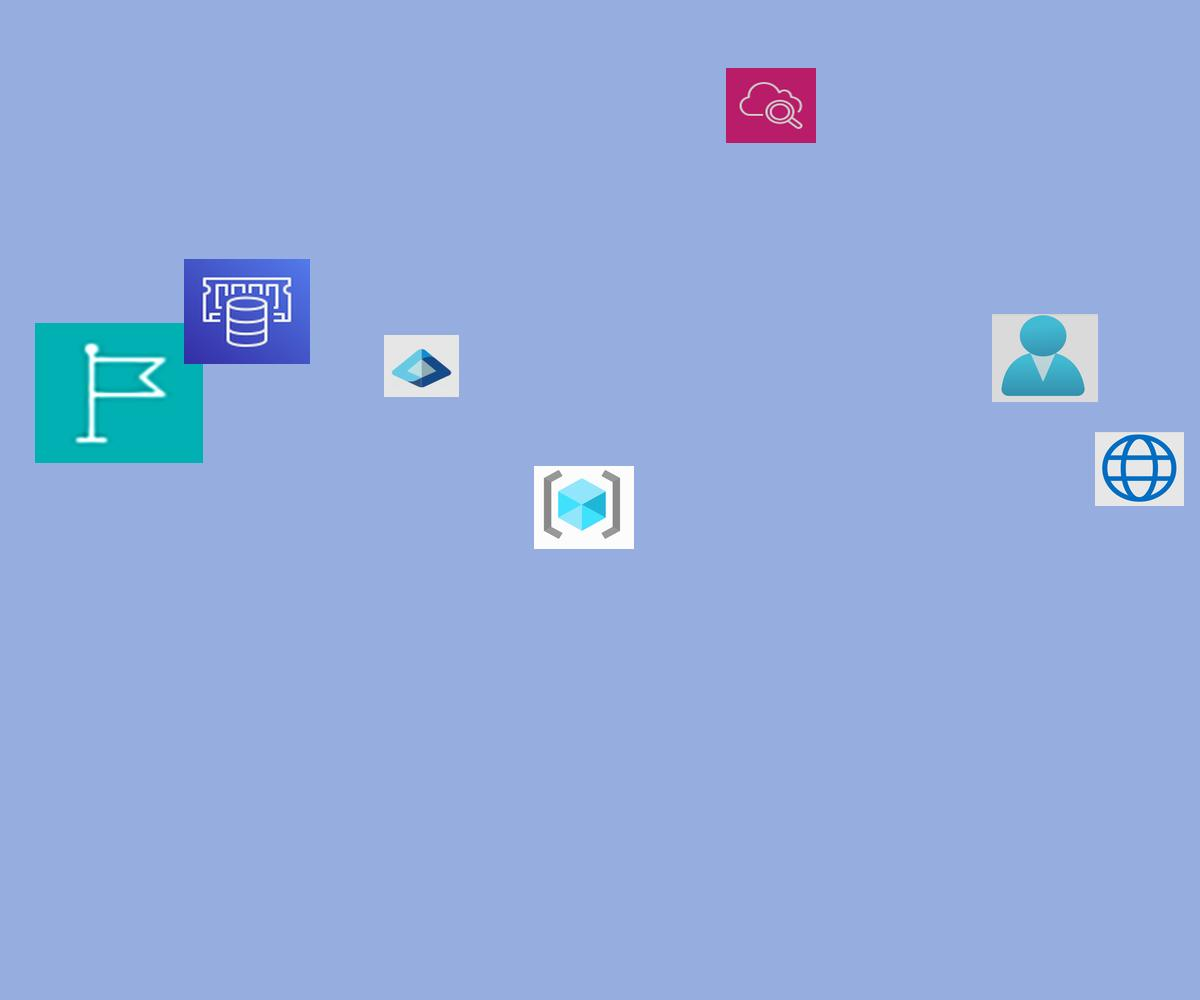AWS-CloudWatch: (726, 68, 816, 143)
AWS-ElastiCache: (184, 259, 310, 364)
AWS-Region: (35, 323, 203, 463)
Azure_http: (1095, 432, 1184, 506)
Azure_microsoft_entra: (384, 335, 459, 397)
Azure_resource_group: (534, 466, 634, 549)
Azure_users: (992, 314, 1098, 402)
